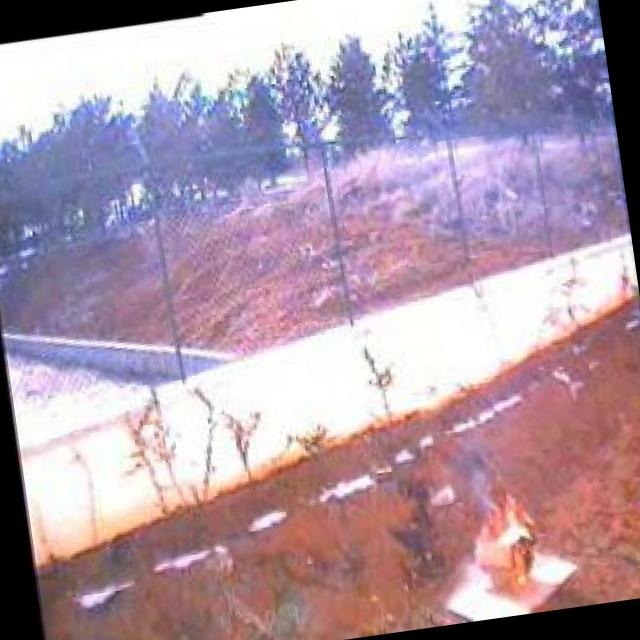Fire: (458, 448, 548, 612)
